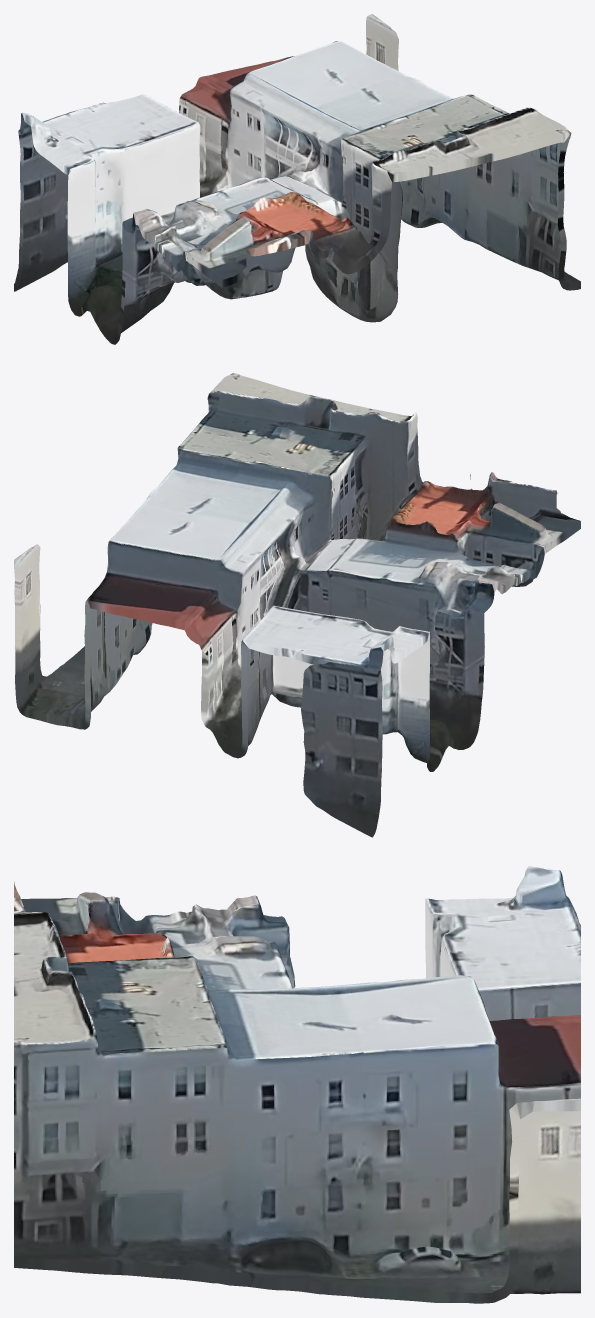
Rendered from z20-167746-405197-h0-yup-uvflip-v3-world.glb.
3 views of the same model, one above another, from view 1: azimuth 30°, elevation 25°; view 2: azimuth 150°, elevation 25°; view 3: azimuth 270°, elevation 25° (orthographic). The views are drawn at different scales.
Size of the model in its own units: 30.16 by 19 by 30.32.
Materials: 1 (1 with a texture image).
